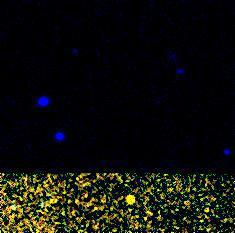star: (115, 184, 145, 214)
